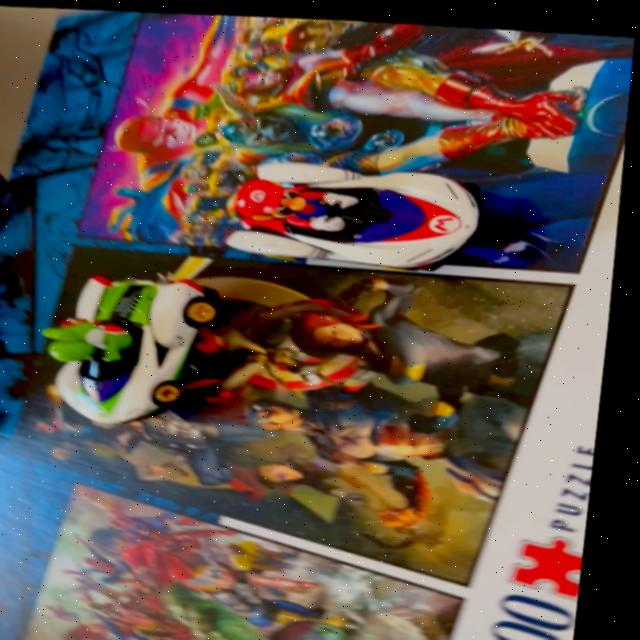mario: (204, 143, 511, 274)
yoshi: (18, 248, 248, 447)
